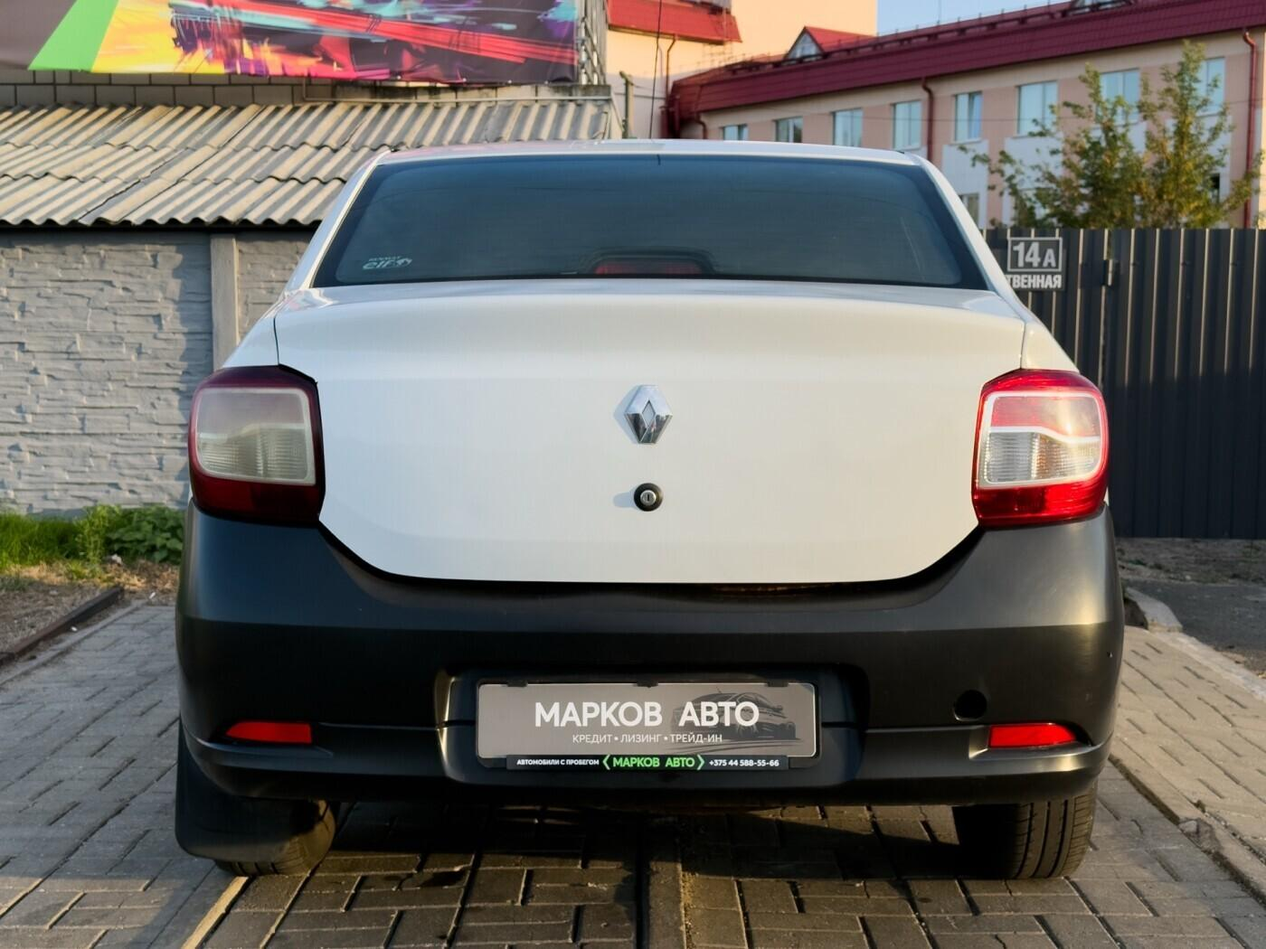Logan_2018: (165, 139, 1124, 891)
